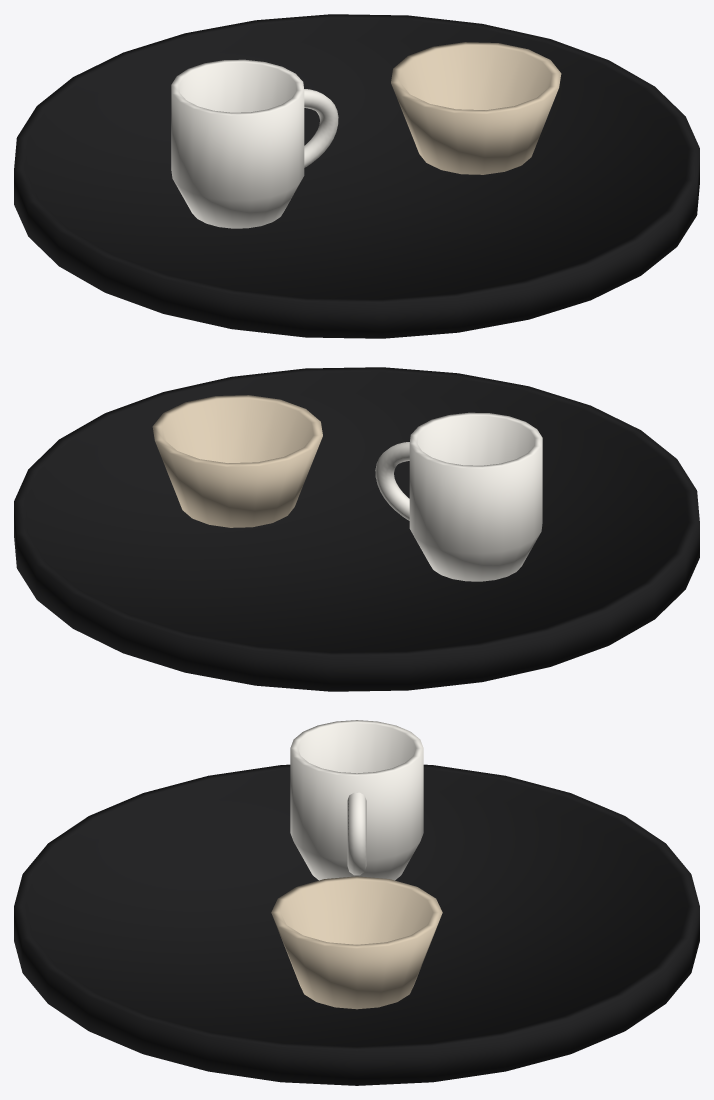
The model's file is i_tray_1.glb.
The picture shows the model from 3 angles, top to bottom: view 1: azimuth 30°, elevation 25°; view 2: azimuth 150°, elevation 25°; view 3: azimuth 270°, elevation 25°; orthographic projection.
Visible parts, largest first — view 1: o, o.001, o.003, o.002; view 2: o, o.001, o.003, o.002; view 3: o, o.001, o.003, o.002.
Boxes of the visible parts, left/top/right/bottom form: o: left=14, top=14, right=699, bottom=338; o.001: left=171, top=59, right=304, bottom=228; o.003: left=391, top=42, right=561, bottom=174; o.002: left=304, top=89, right=338, bottom=167; o: left=14, top=367, right=699, bottom=691; o.001: left=409, top=412, right=542, bottom=581; o.003: left=152, top=395, right=322, bottom=527; o.002: left=375, top=442, right=409, bottom=520; o: left=14, top=764, right=699, bottom=1085; o.001: left=290, top=720, right=423, bottom=880; o.003: left=271, top=876, right=442, bottom=1009; o.002: left=347, top=792, right=366, bottom=875.
Bounding box in the file's own units: 0.36 × 0.078 × 0.36.
